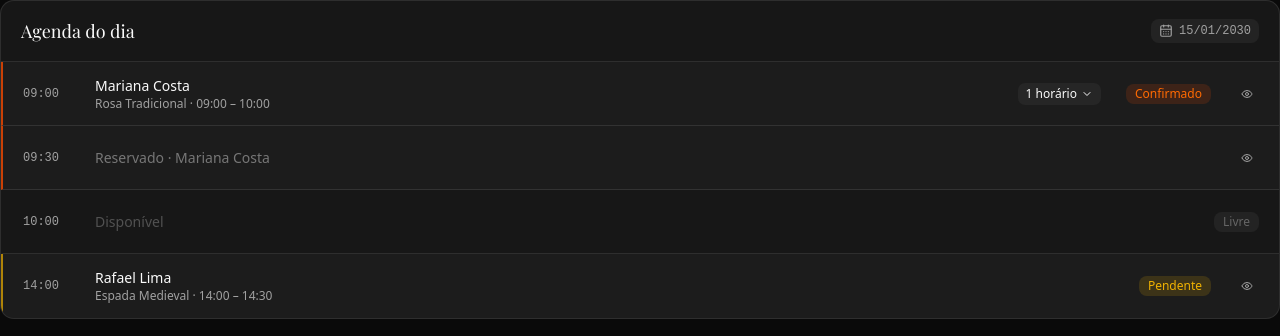
Test: DayAgendaList › shows the reserved slots by default and lets the artist collapse them
Expected: the text "Mariana Costa" is shown, [95, 76, 190, 94]
Expected: the text "Reservado · Mariana Costa" is shown, [95, 148, 270, 166]
Click the button with aria-label "Recolher horários reservados de Mariana Costa" at [1059, 94], box [1016, 82, 1102, 106]
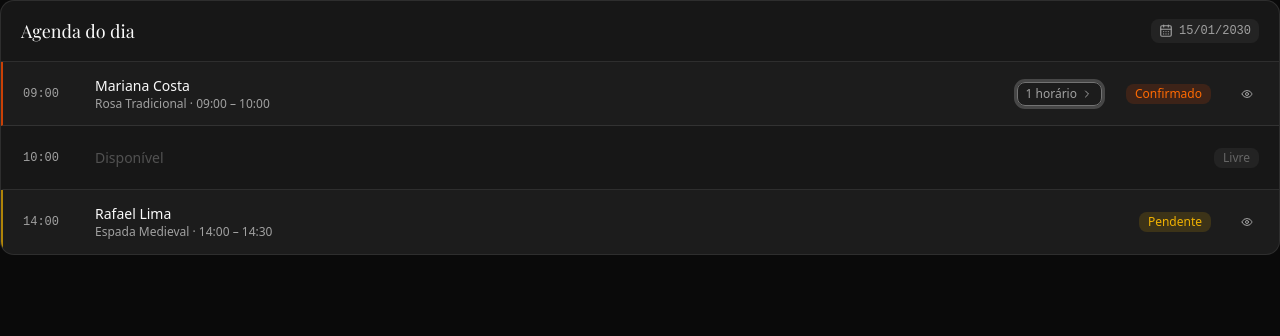
Expected: the number of list items is 3, [1, 62, 1279, 126]; [1, 126, 1279, 190]; [1, 190, 1279, 254]
Expected: the text "Reservado · Mariana Costa" is gone
Expected: the button with aria-label "Mostrar horários reservados de Mariana Costa" is collapsed
Click the button with aria-label "Mostrar horários reservados de Mariana Costa" at [1059, 94], box [1016, 82, 1102, 106]
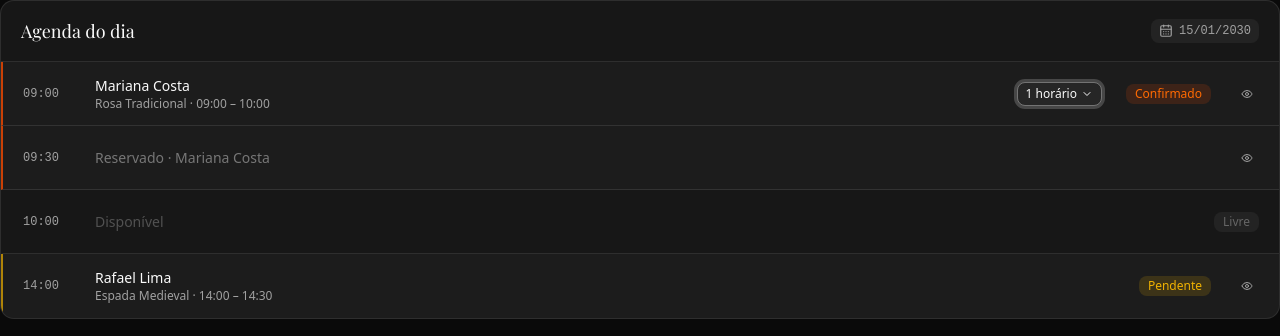
Expected: the text "Reservado · Mariana Costa" is shown, [95, 148, 270, 166]
